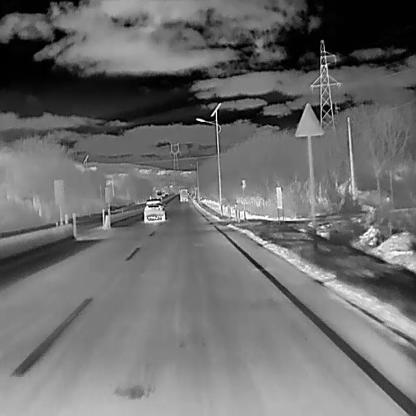car: (142, 198, 166, 224), (178, 187, 189, 203), (156, 189, 163, 199)
